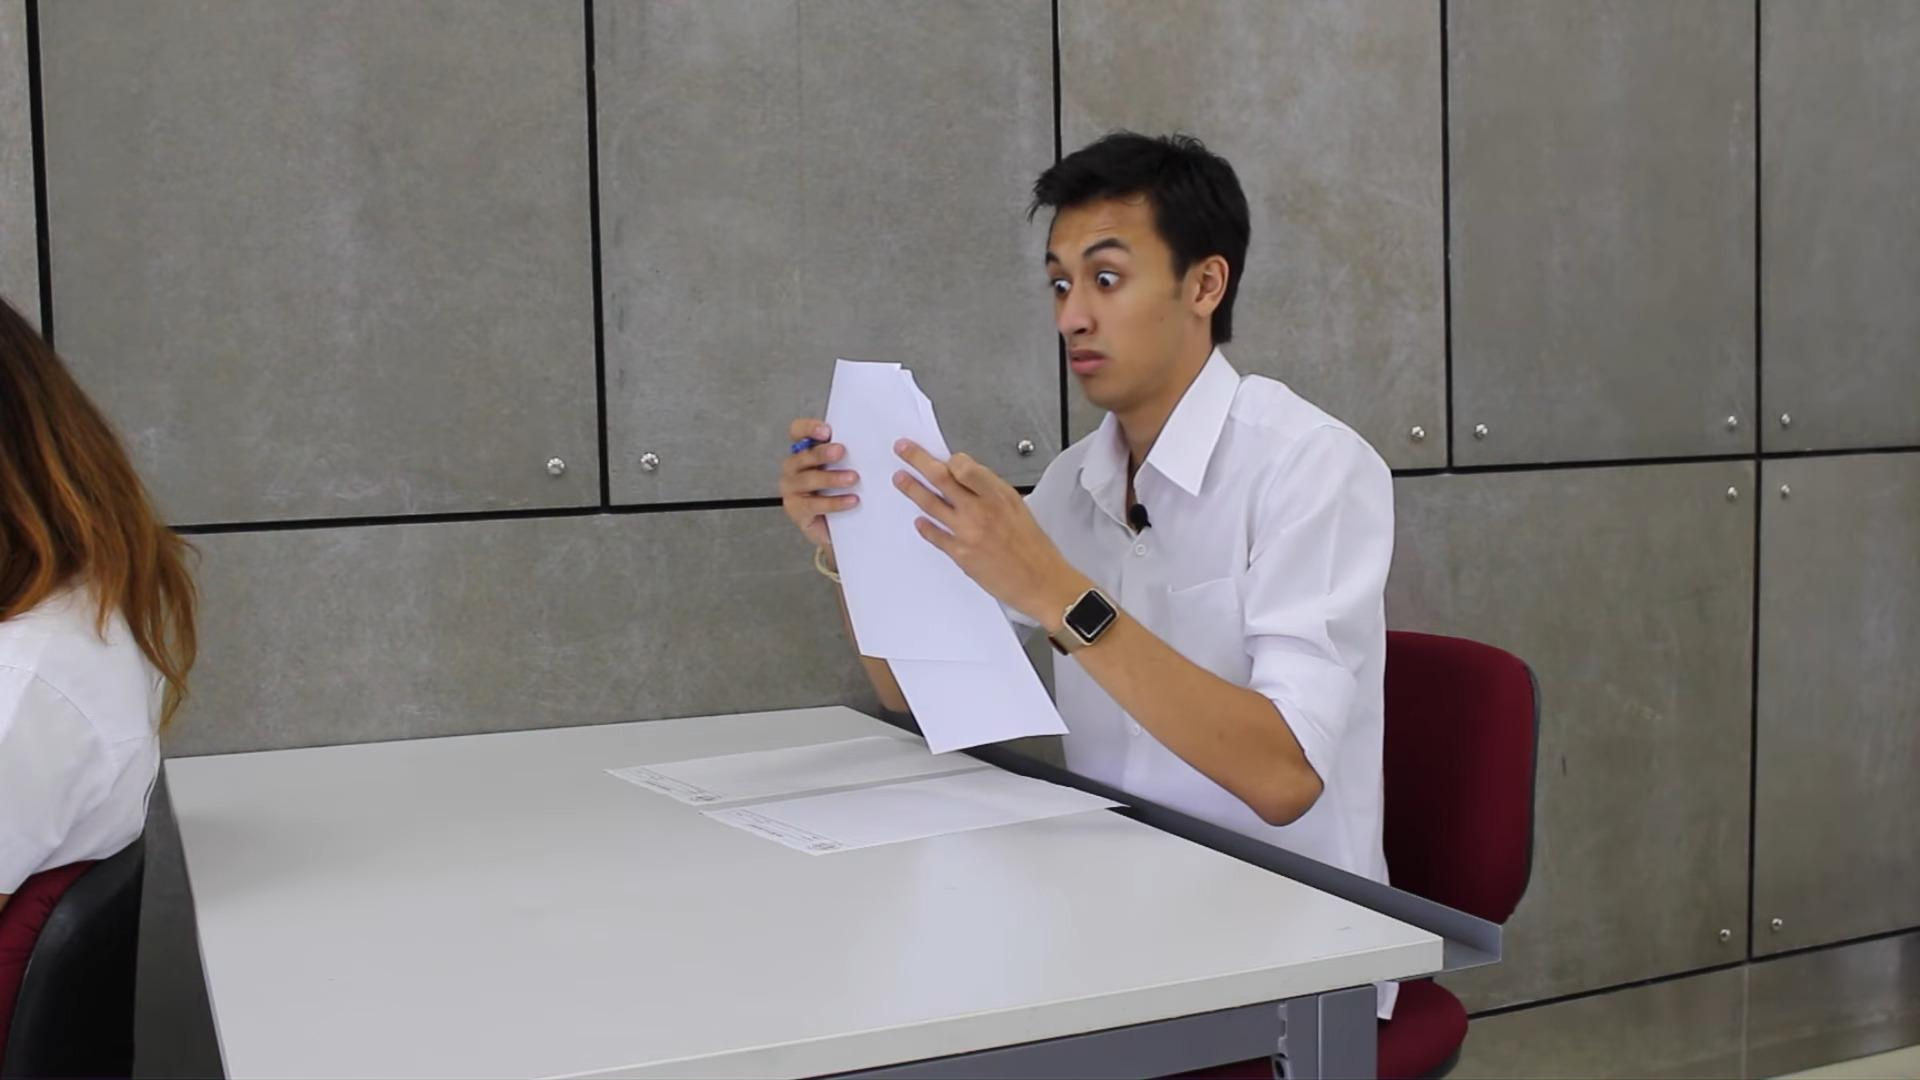good: (585, 111, 1423, 913)
